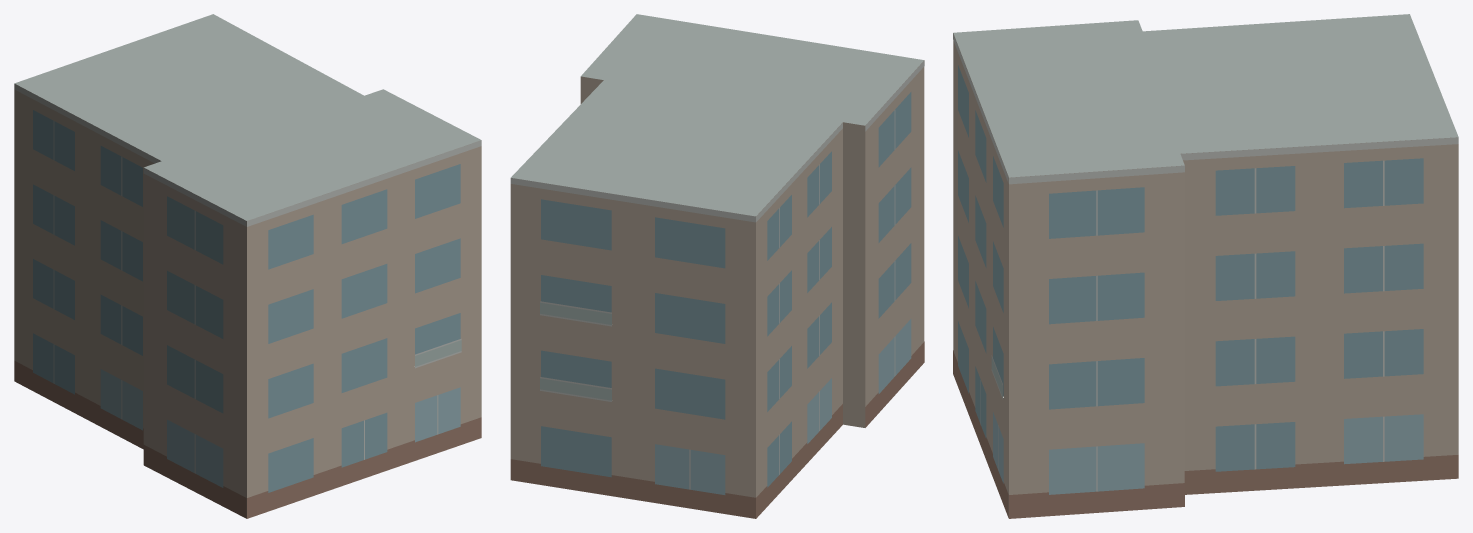
File: survey-upis-32830810.glb
3 renders of one model, left to right at view 1: azimuth 30°, elevation 25°; view 2: azimuth 150°, elevation 25°; view 3: azimuth 270°, elevation 25°, orthographic. The views are drawn at different scales.
Parts seen in each view (by area): view 1: survey-upis-32830810.tmp; view 2: survey-upis-32830810.tmp; view 3: survey-upis-32830810.tmp.
Boxes of the visible parts, x1,y1,x2,y2 form: survey-upis-32830810.tmp: [14, 14, 481, 518]; survey-upis-32830810.tmp: [510, 14, 924, 518]; survey-upis-32830810.tmp: [953, 14, 1458, 518].
Size of the model in its own units: 12.55 by 12.2 by 16.39.
